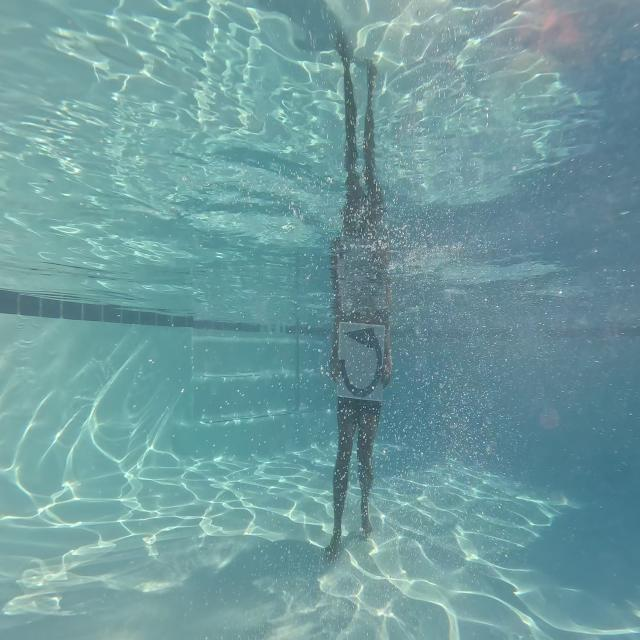blue_side: (331, 326, 392, 406)
